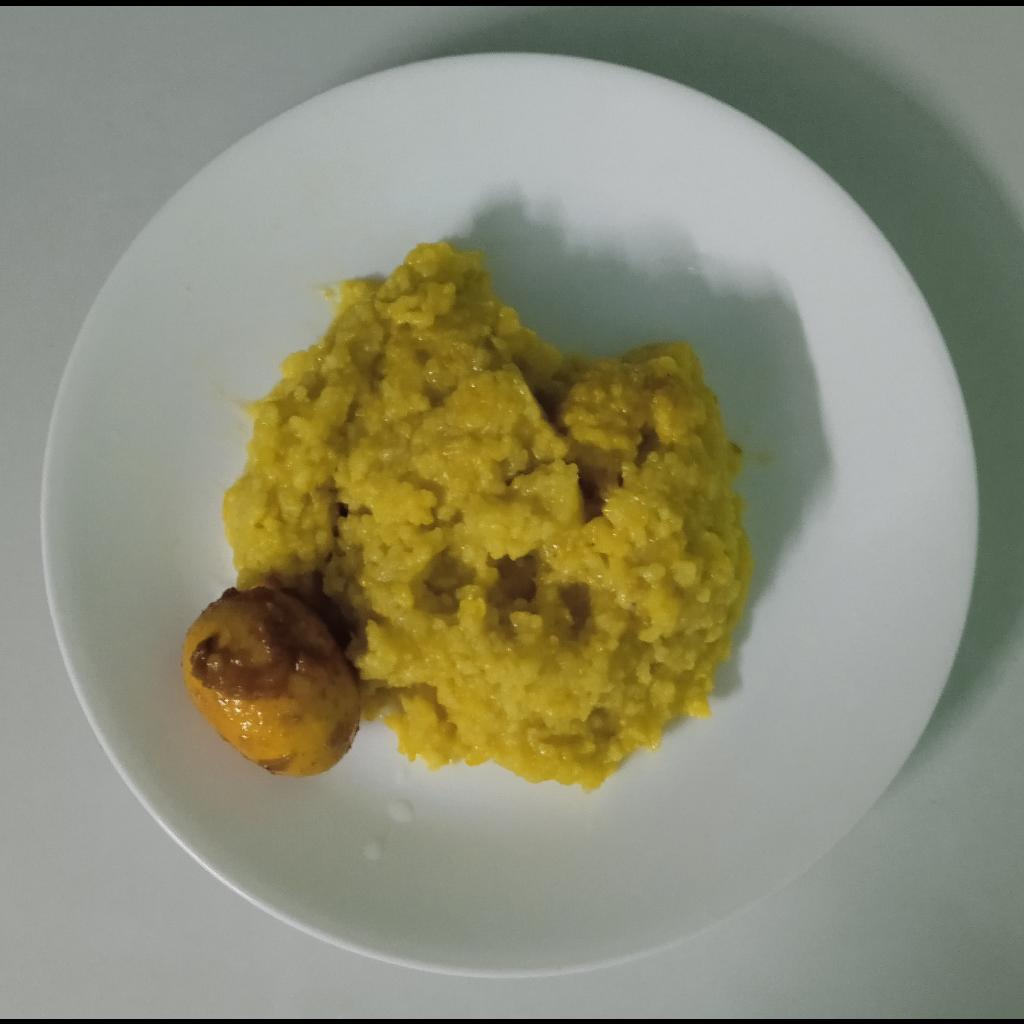egg: (177, 584, 363, 779)
khichuri: (221, 243, 751, 787)
